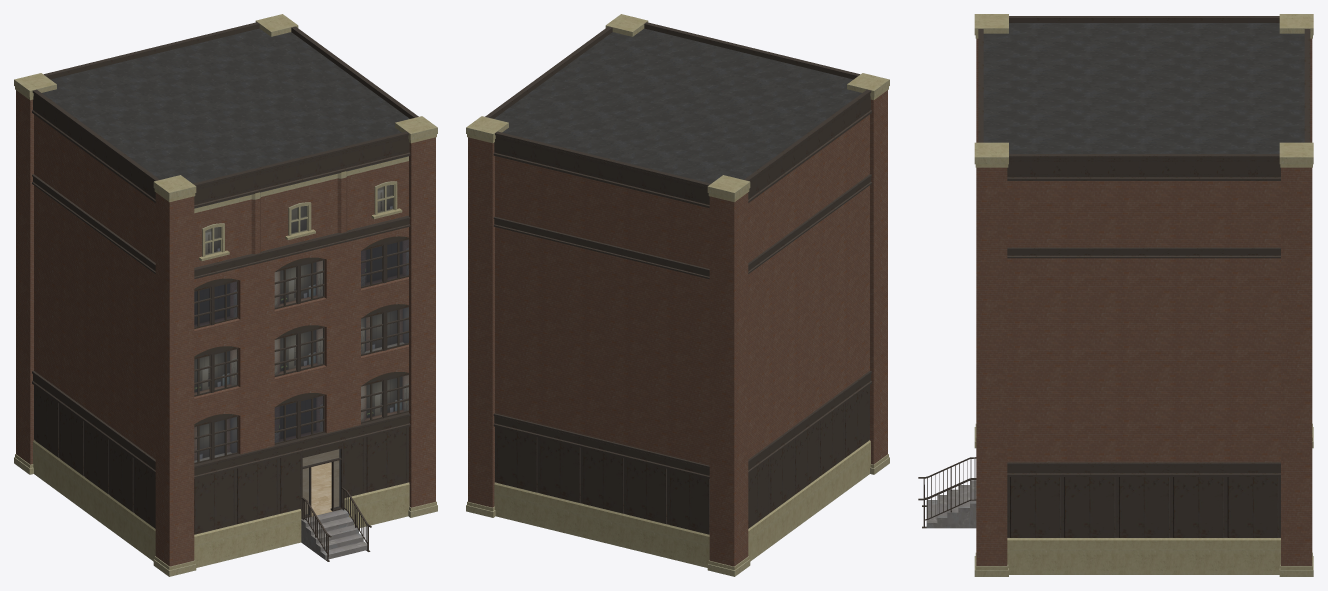
The model's file is building-small.glb.
3 views of the same model, side by side, from view 1: azimuth 30°, elevation 25°; view 2: azimuth 150°, elevation 25°; view 3: azimuth 270°, elevation 25° (orthographic). The views are drawn at different scales.
Visible parts, largest first — view 1: Building_Small_1; view 2: Building_Small_1; view 3: Building_Small_1.
Part boxes in pixels (box(x1,y1,x2,y2)): Building_Small_1: box(14, 14, 437, 576); Building_Small_1: box(466, 14, 889, 576); Building_Small_1: box(918, 14, 1313, 576).
Bounding box in the file's own units: 12.46 × 17.03 × 14.54.
10 materials, 9 textured.
